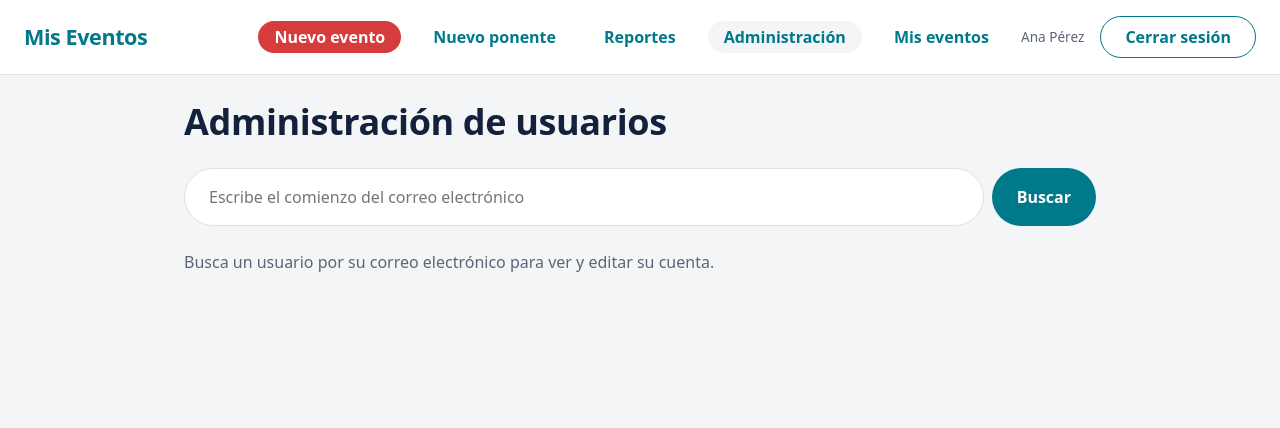
it: AdminUsersPage search › ignores the response of a search the admin has already replaced
Type "b" into the search field named "Correo electrónico del usuario" at [584, 197], box [184,168,984,226]
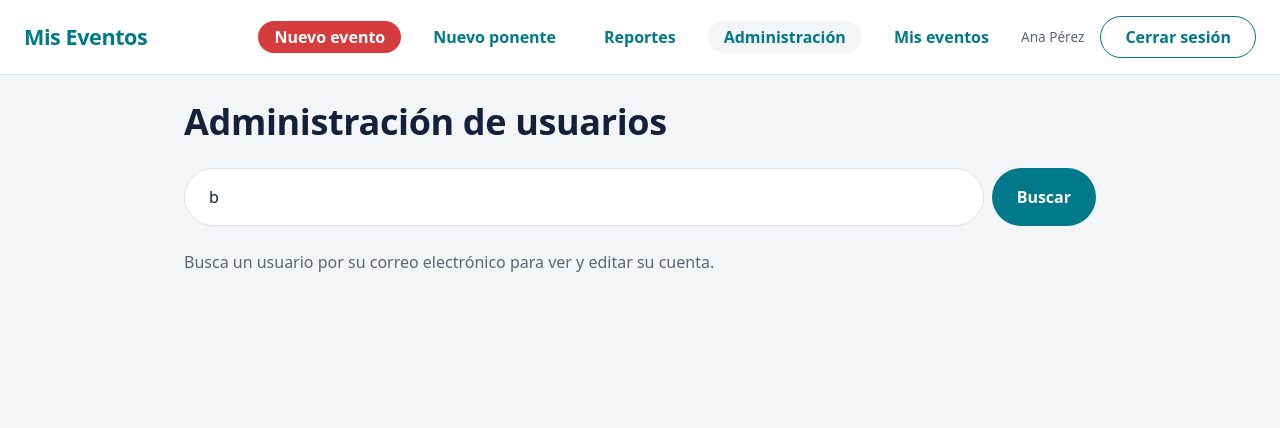
Click the button "Buscar" at [1044, 197], box [992,168,1096,226]
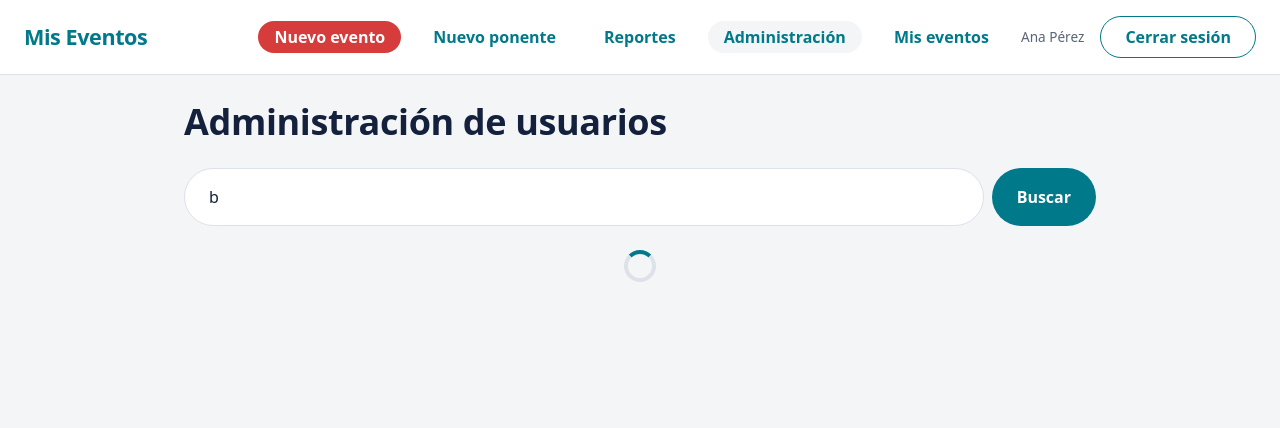
Replace the text in the search field named "Correo electrónico del usuario" with "c" at [584, 197], box [184,168,984,226]
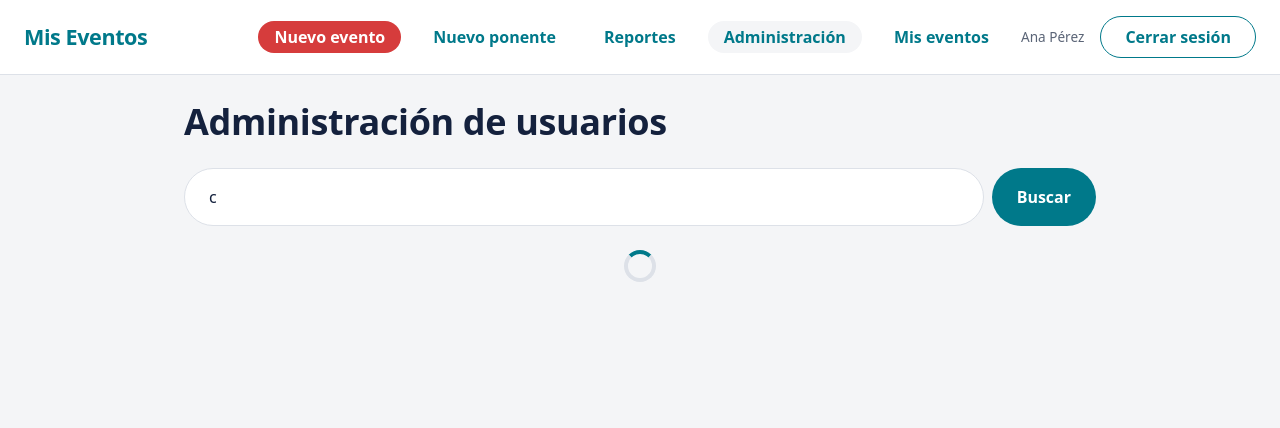
Click the button "Buscar" at [1044, 197], box [992,168,1096,226]
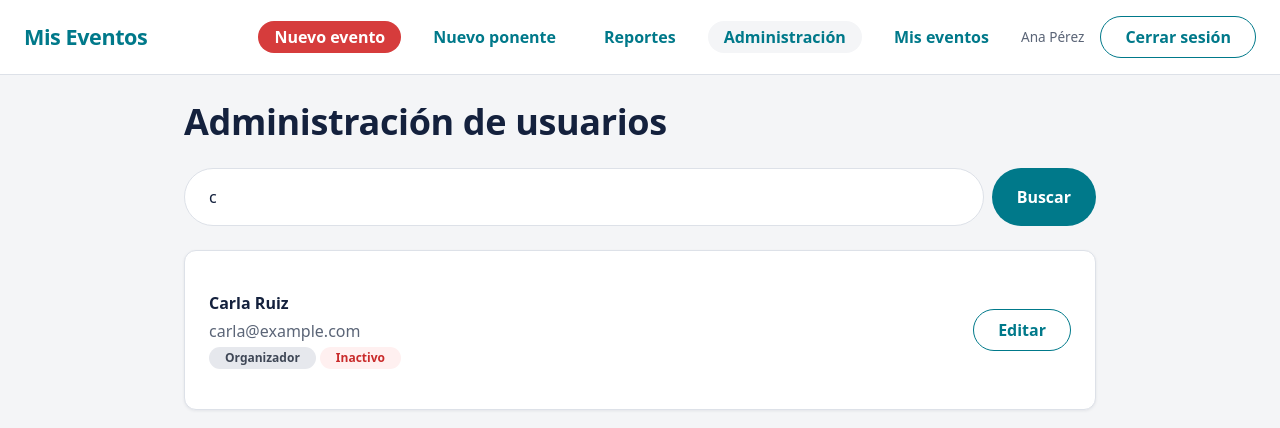
Check: the text "Carla Ruiz" is shown, box [209,292,289,314]
